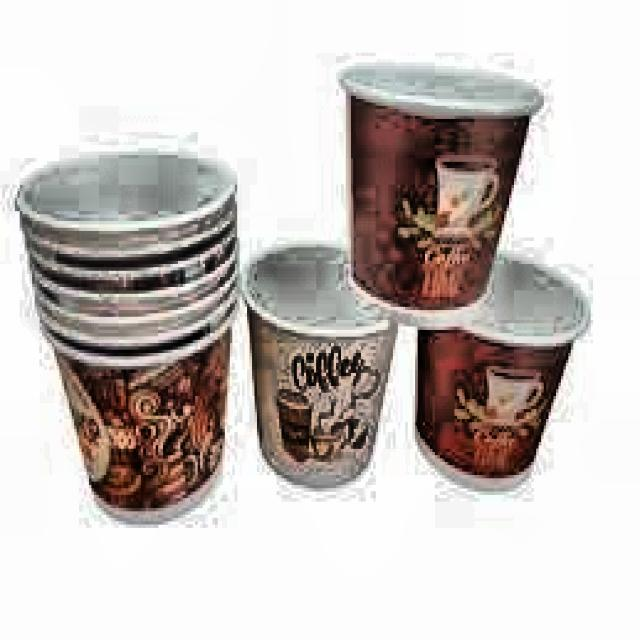Cup: (8, 143, 245, 533), (335, 59, 533, 330), (407, 221, 593, 505), (246, 239, 394, 499)
